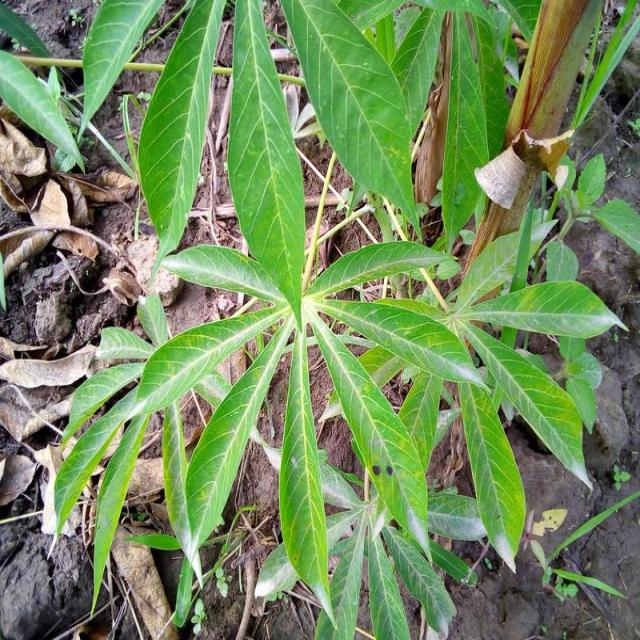cassava leaf: (49, 1, 630, 637), (280, 0, 424, 238), (226, 0, 308, 330), (137, 0, 227, 279)
